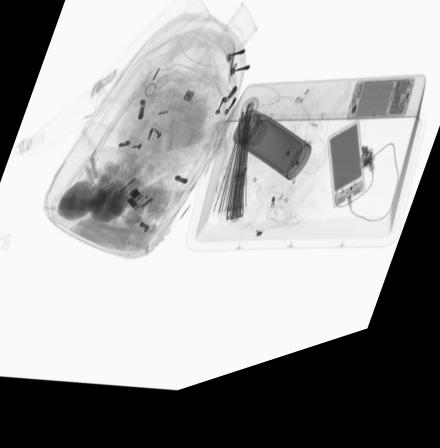Powerbank: (327, 141, 367, 229)
